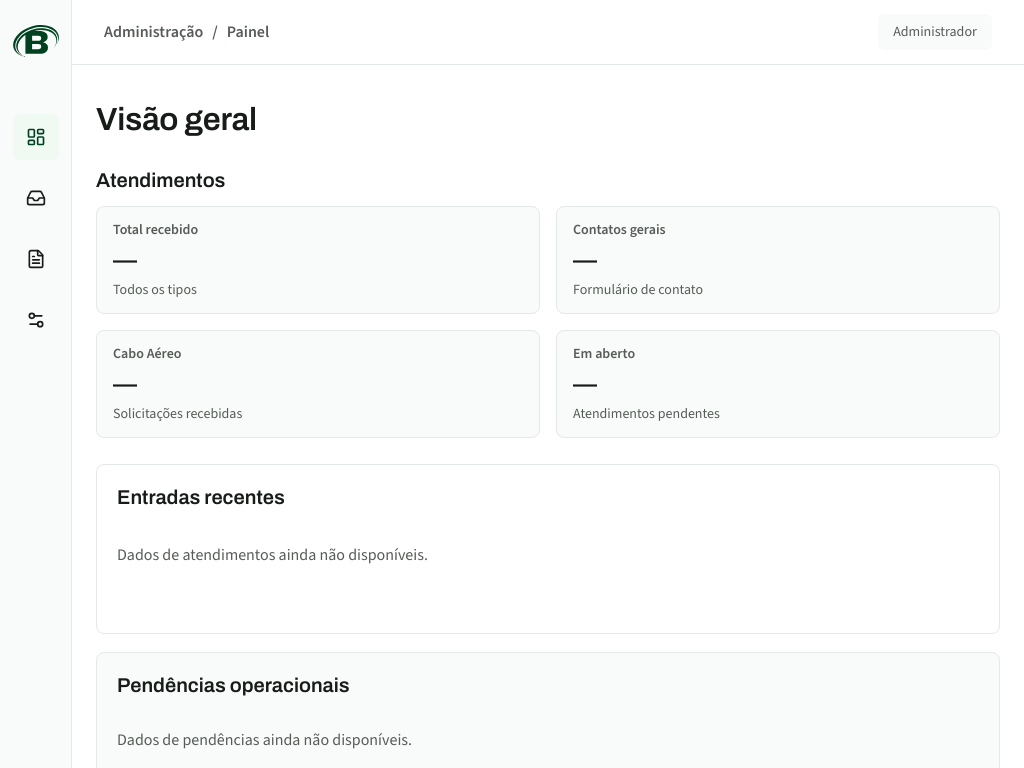
Scenario: ADM-02 — menu de perfil nas telas maiores › informa falha de logout sem encerrar falsamente a sessao
This screenshot has width=1024, height=768.
Expected: the heading "Visão geral" is shown, left=96, top=102, right=257, bottom=137
Click the button with aria-label "Abrir opções da conta": point(935, 32) left=878, top=14, right=992, bottom=50
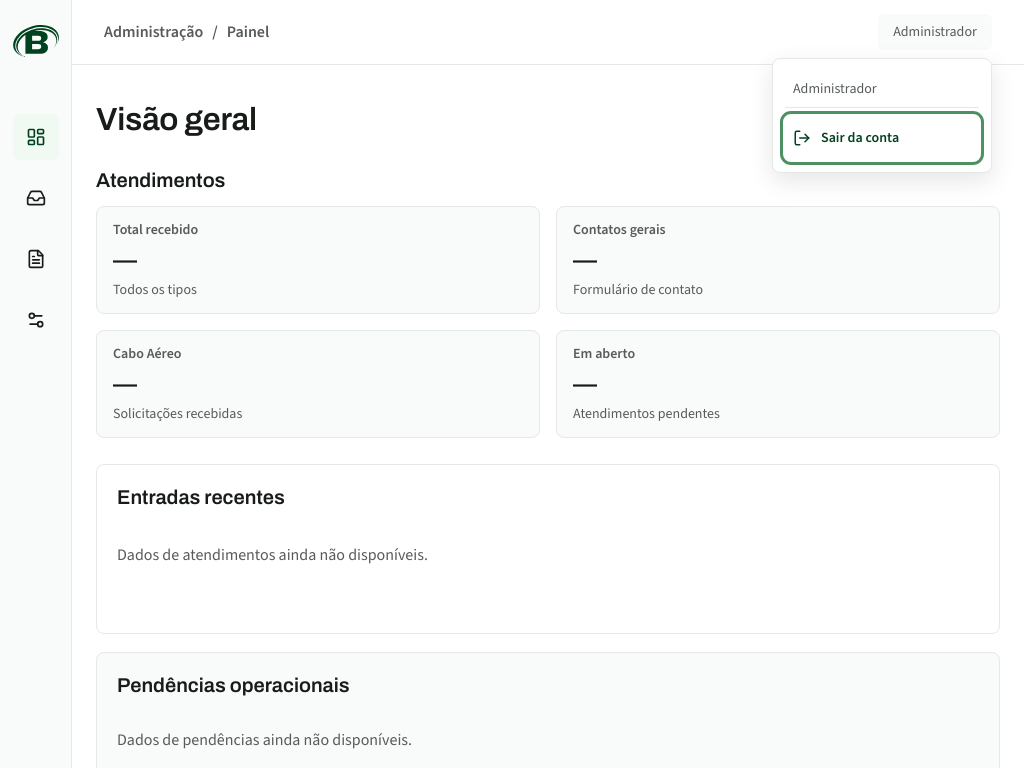
Click the button "Sair da conta": point(882, 138) left=785, top=116, right=979, bottom=160
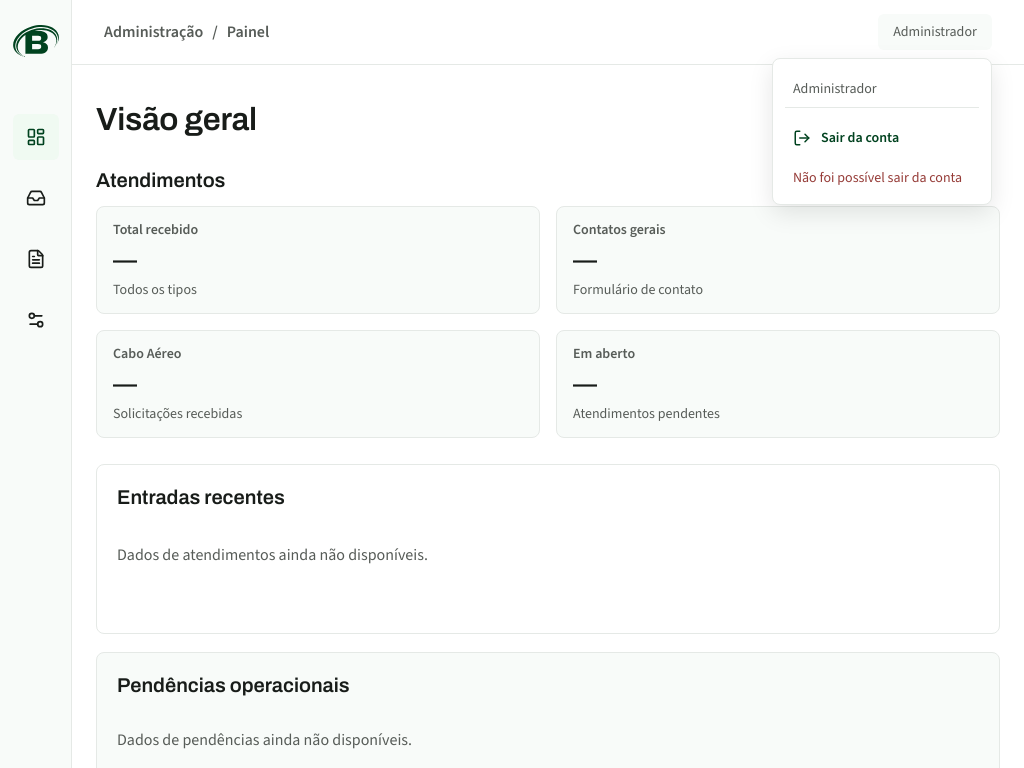
Expected: the message reads "Não foi possível sair da conta", left=793, top=168, right=962, bottom=187
